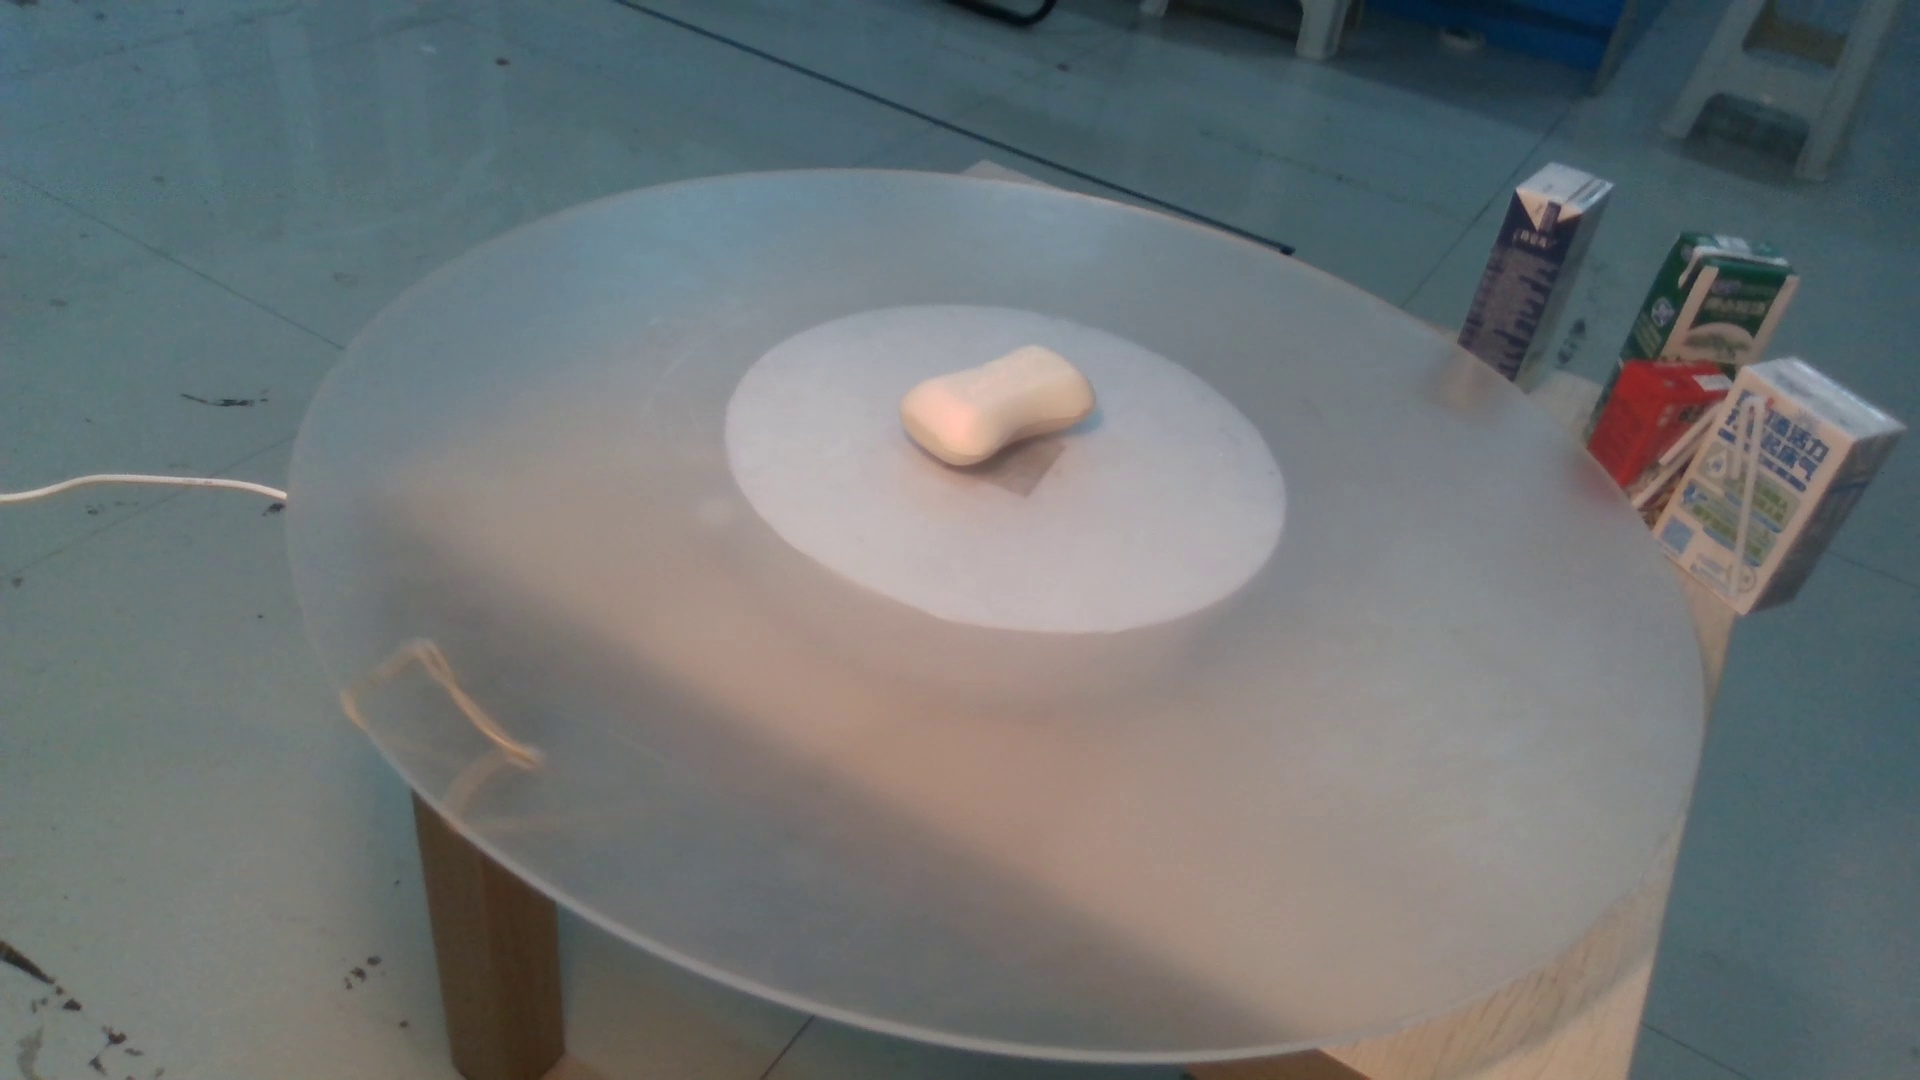CA003_1: (899, 316, 1125, 488)
